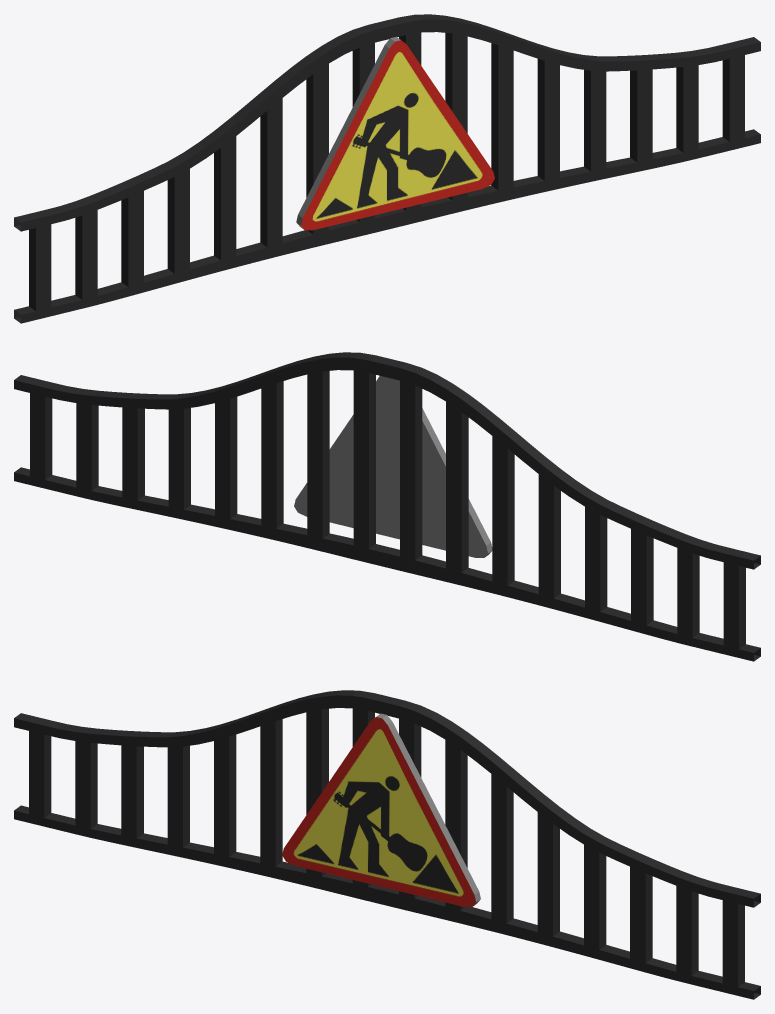
Rendered from Gate.obj.
3 views of the same model, one above another, from view 1: azimuth 30°, elevation 25°; view 2: azimuth 150°, elevation 25°; view 3: azimuth 330°, elevation 25° (orthographic).
Parts seen in each view (by area): view 1: Cylinder.003; view 2: Cylinder.003; view 3: Cylinder.003.
Part boxes in pixels (x1,y1,x2,y2): Cylinder.003: (14,14,760,323); Cylinder.003: (14,352,760,661); Cylinder.003: (14,690,760,999).
Bounding box in the file's own units: 10.73 × 2.87 × 0.3254.
